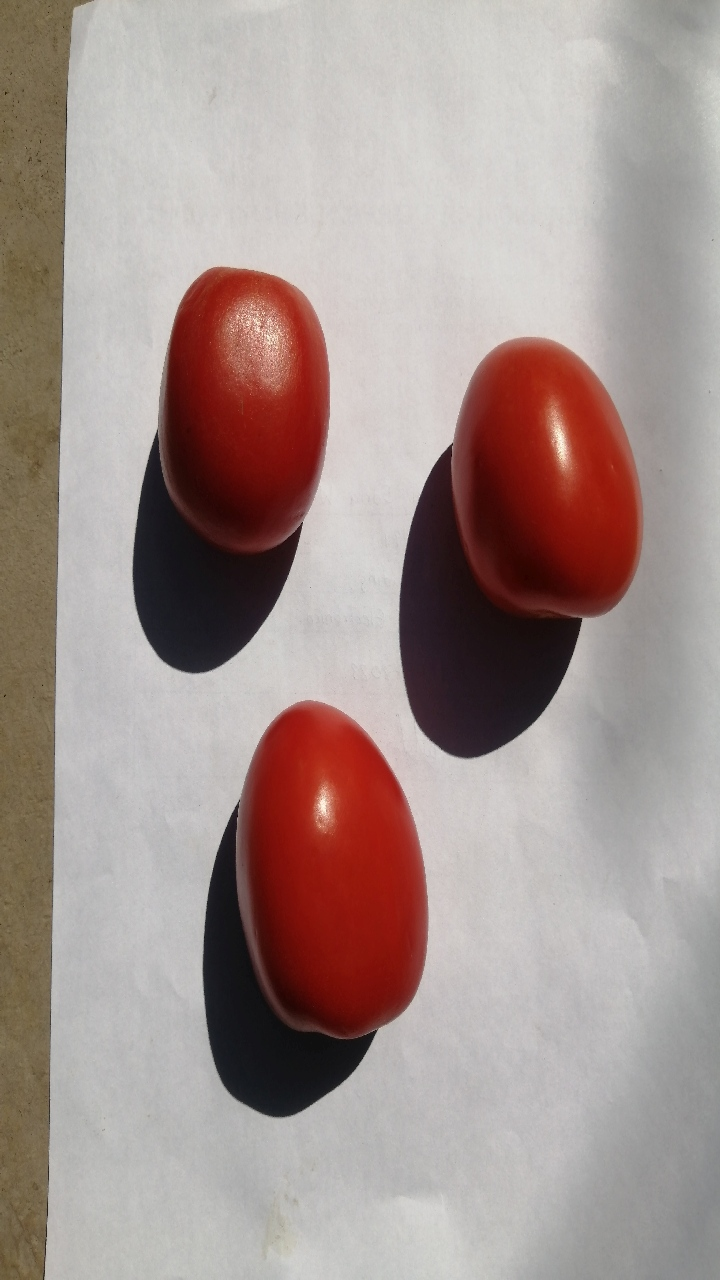tomateRojo: (218, 686, 451, 1065), (426, 308, 664, 634), (141, 240, 348, 560)
